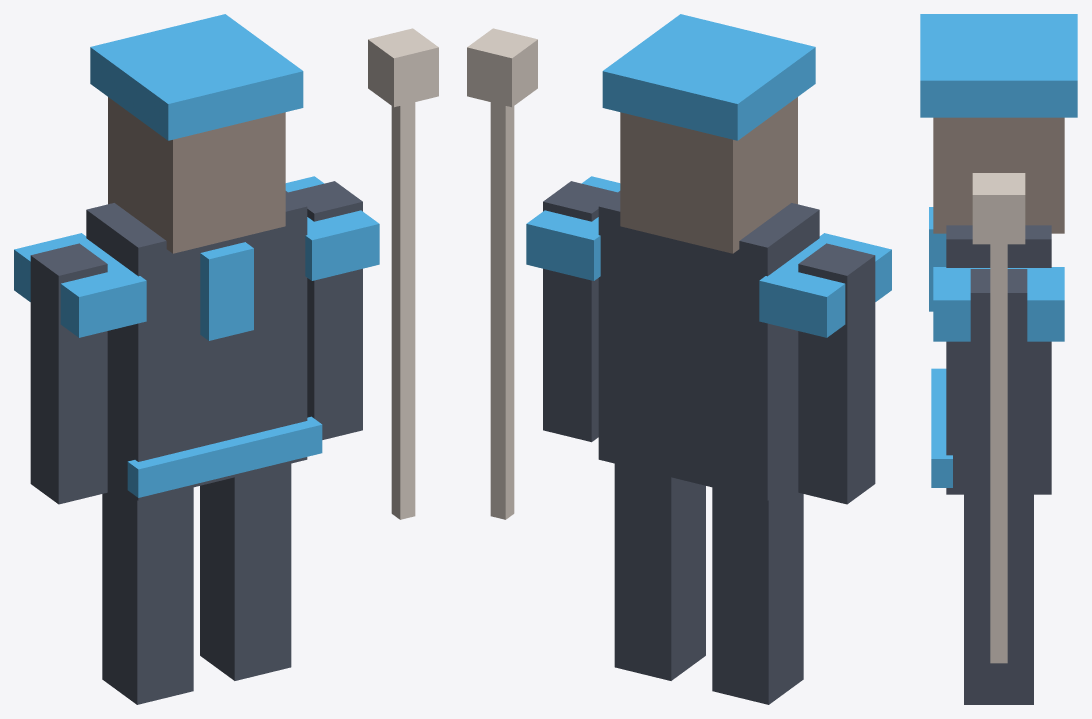
The model's file is 19_thorne_voxmere_runner_under_patrol.glb.
3 renders of one model, left to right at view 1: azimuth 30°, elevation 25°; view 2: azimuth 150°, elevation 25°; view 3: azimuth 270°, elevation 25°, orthographic.
Visible parts, largest first — view 1: Thorne Voxmere, Runner under Patrol; view 2: Thorne Voxmere, Runner under Patrol; view 3: Thorne Voxmere, Runner under Patrol.
Part boxes in pixels (x1,y1,x2,y2): Thorne Voxmere, Runner under Patrol: (14, 14, 438, 704); Thorne Voxmere, Runner under Patrol: (467, 14, 891, 704); Thorne Voxmere, Runner under Patrol: (920, 14, 1077, 704).
Bounding box in the file's own units: 1.09 × 1.67 × 0.3849.
